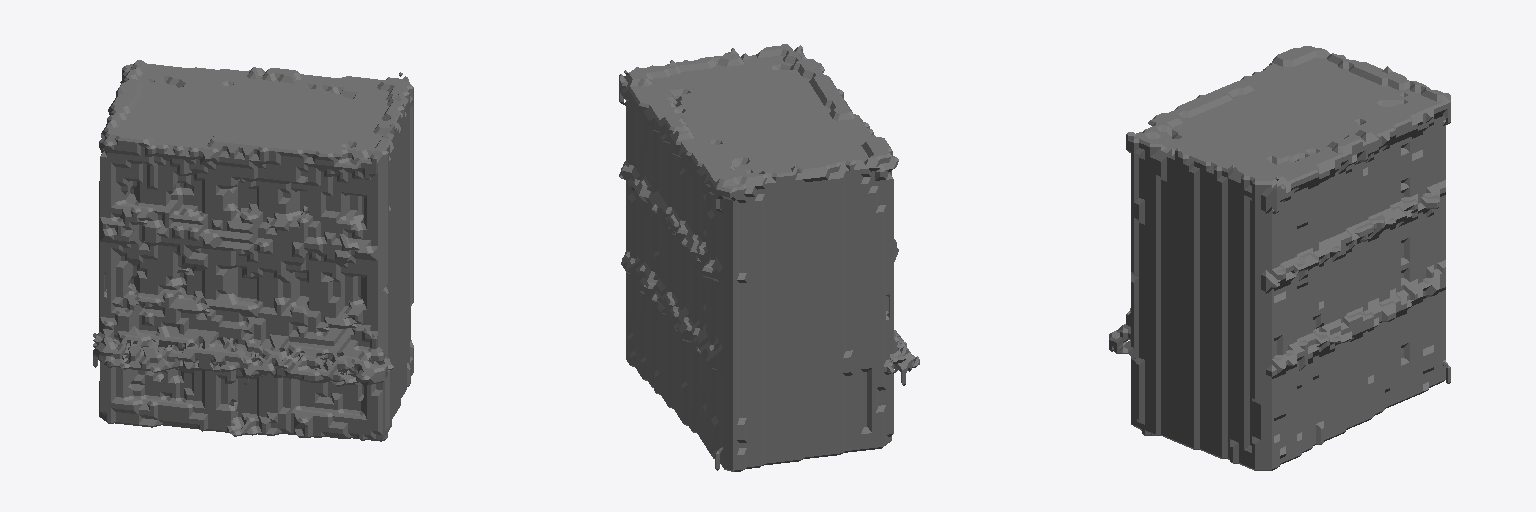
File: gen6_colored.obj
3 views of the same model, side by side, from view 1: azimuth 30°, elevation 25°; view 2: azimuth 150°, elevation 25°; view 3: azimuth 270°, elevation 25° (orthographic).
Visible parts, largest first — view 1: gen6.obj; view 2: gen6.obj; view 3: gen6.obj.
Part boxes in pixels (bbox=[...]): gen6.obj: bbox=[93, 60, 413, 441]; gen6.obj: bbox=[619, 44, 919, 471]; gen6.obj: bbox=[1109, 46, 1450, 470].
Size of the model in its own units: 63 by 60 by 62.